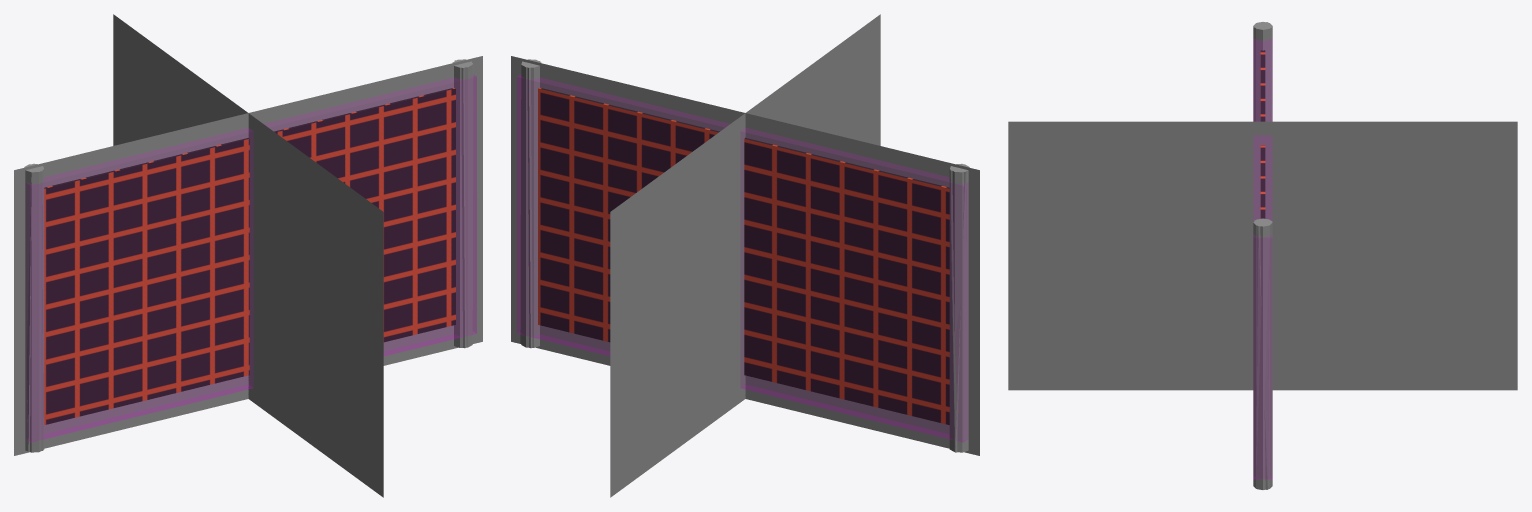
Rendered from safetynet_orange_2m.dae.
The picture shows the model from 3 angles, left to right: view 1: azimuth 30°, elevation 25°; view 2: azimuth 150°, elevation 25°; view 3: azimuth 270°, elevation 25°; orthographic projection. The views are drawn at different scales.
Visible parts, largest first — view 1: safetynet_orange_2m_a800, Colmesh_panel-1, safetynet_orange_2m_a50, safetynet_orange_2m_a200; view 2: safetynet_orange_2m_a800, Colmesh_panel-1, safetynet_orange_2m_a50, safetynet_orange_2m_a200; view 3: safetynet_orange_2m_a50, safetynet_orange_2m_a800, Colmesh_panel-1, safetynet_orange_2m_a200.
Part boxes in pixels (box(x1,y1,x2,y2)): safetynet_orange_2m_a800: box(24, 59, 472, 452); Colmesh_panel-1: box(26, 75, 476, 442); safetynet_orange_2m_a50: box(14, 14, 482, 497); safetynet_orange_2m_a200: box(26, 60, 473, 452); safetynet_orange_2m_a800: box(521, 59, 969, 452); Colmesh_panel-1: box(517, 74, 967, 442); safetynet_orange_2m_a50: box(511, 14, 979, 497); safetynet_orange_2m_a200: box(520, 60, 967, 452); safetynet_orange_2m_a50: box(1008, 121, 1517, 390); safetynet_orange_2m_a800: box(1253, 22, 1272, 489); Colmesh_panel-1: box(1253, 39, 1272, 478); safetynet_orange_2m_a200: box(1253, 22, 1272, 489).
Size of the model in its own units: 2.1 by 2.1 by 1.22.
3 materials, 1 textured.
